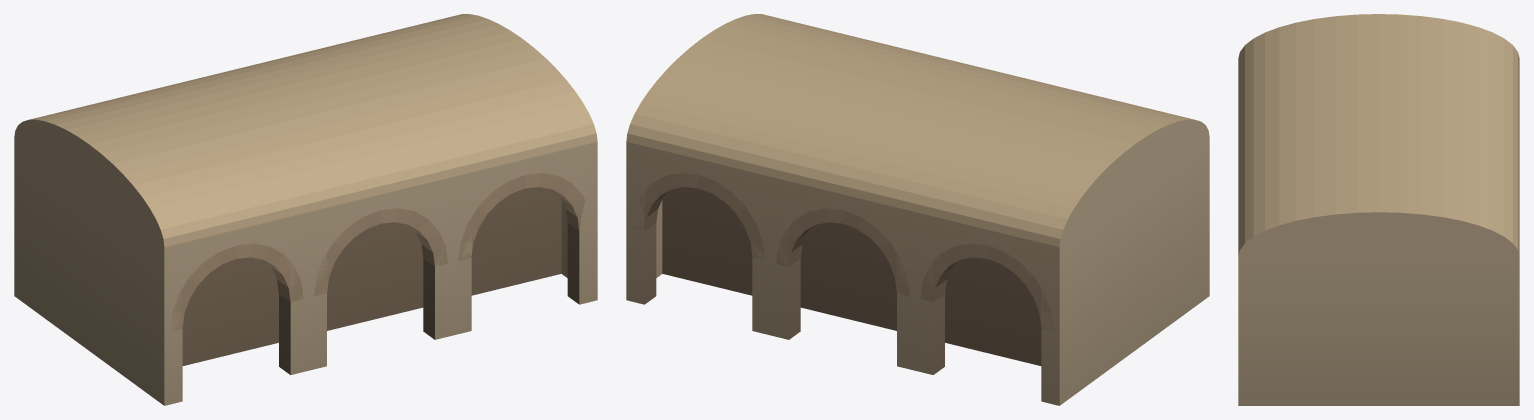
Rendered from libya-arcade.glb.
The picture shows the model from 3 angles, left to right: view 1: azimuth 30°, elevation 25°; view 2: azimuth 150°, elevation 25°; view 3: azimuth 270°, elevation 25°; orthographic projection. The views are drawn at different scales.
Size of the model in its own units: 9 by 4.1 by 5.4.
